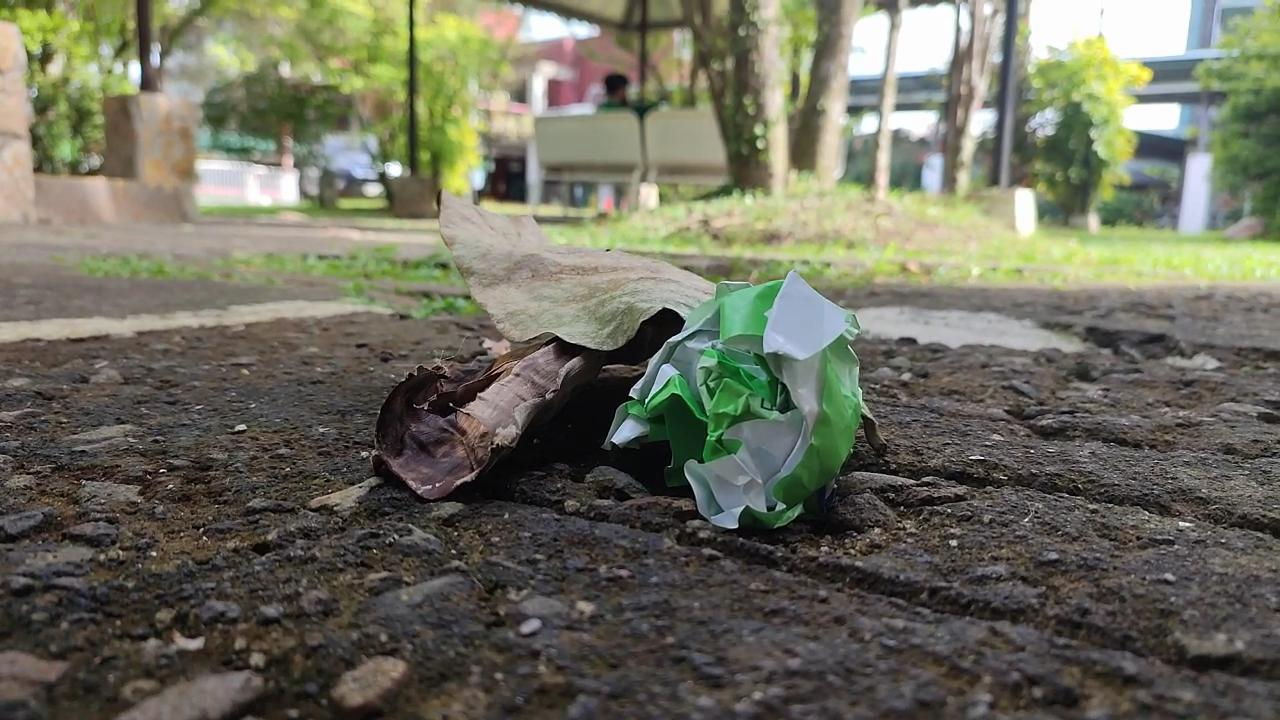Paper: (583, 254, 890, 549)
